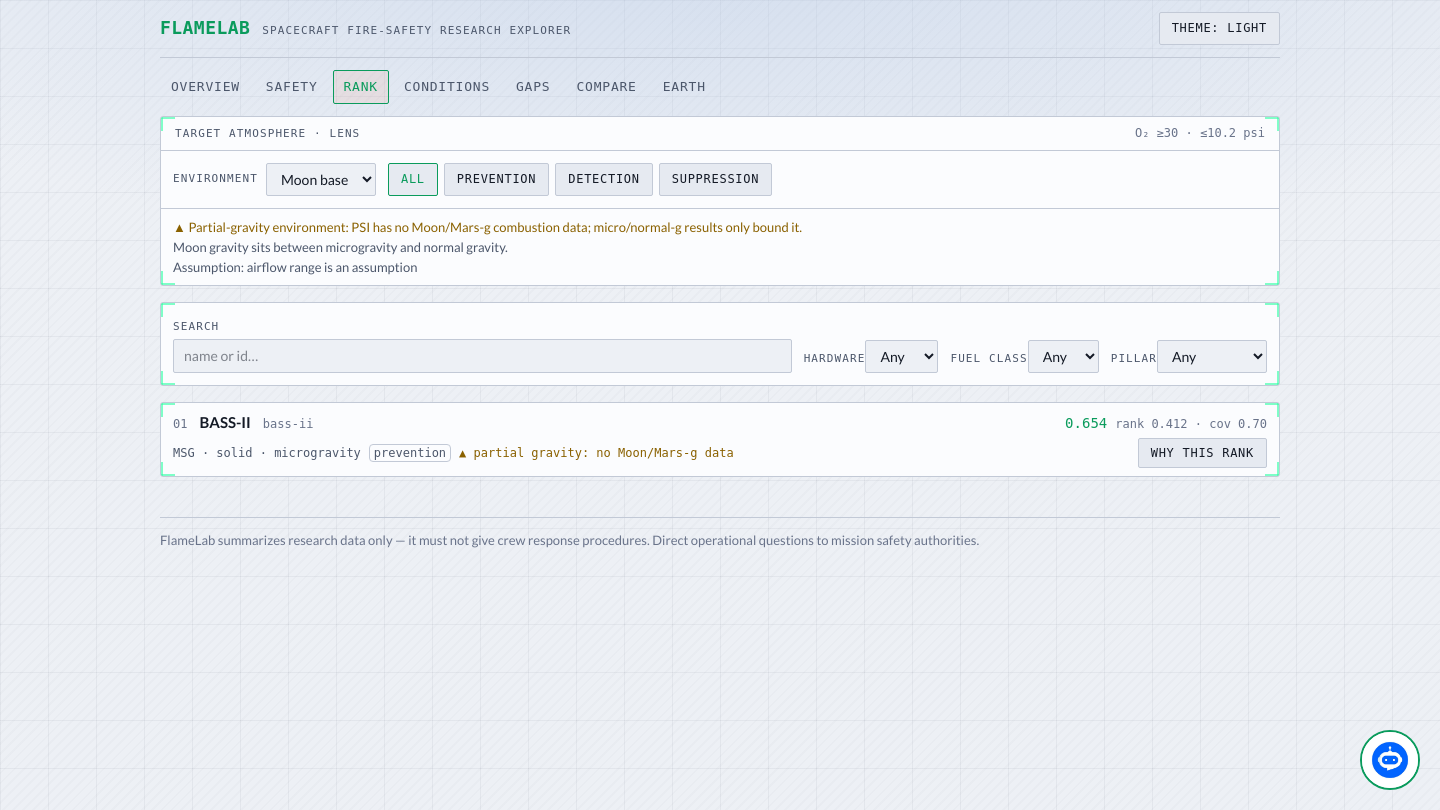
Test: app smoke: every route renders against the API contract › rank: list with expandable breakdown
The width and height of the screenshot is (1440, 810).
Expected: the link "BASS-II" is shown, [200, 411, 251, 434]
Step 1. Click the button "Why this rank" → (1202, 454), box [1138, 438, 1267, 468]
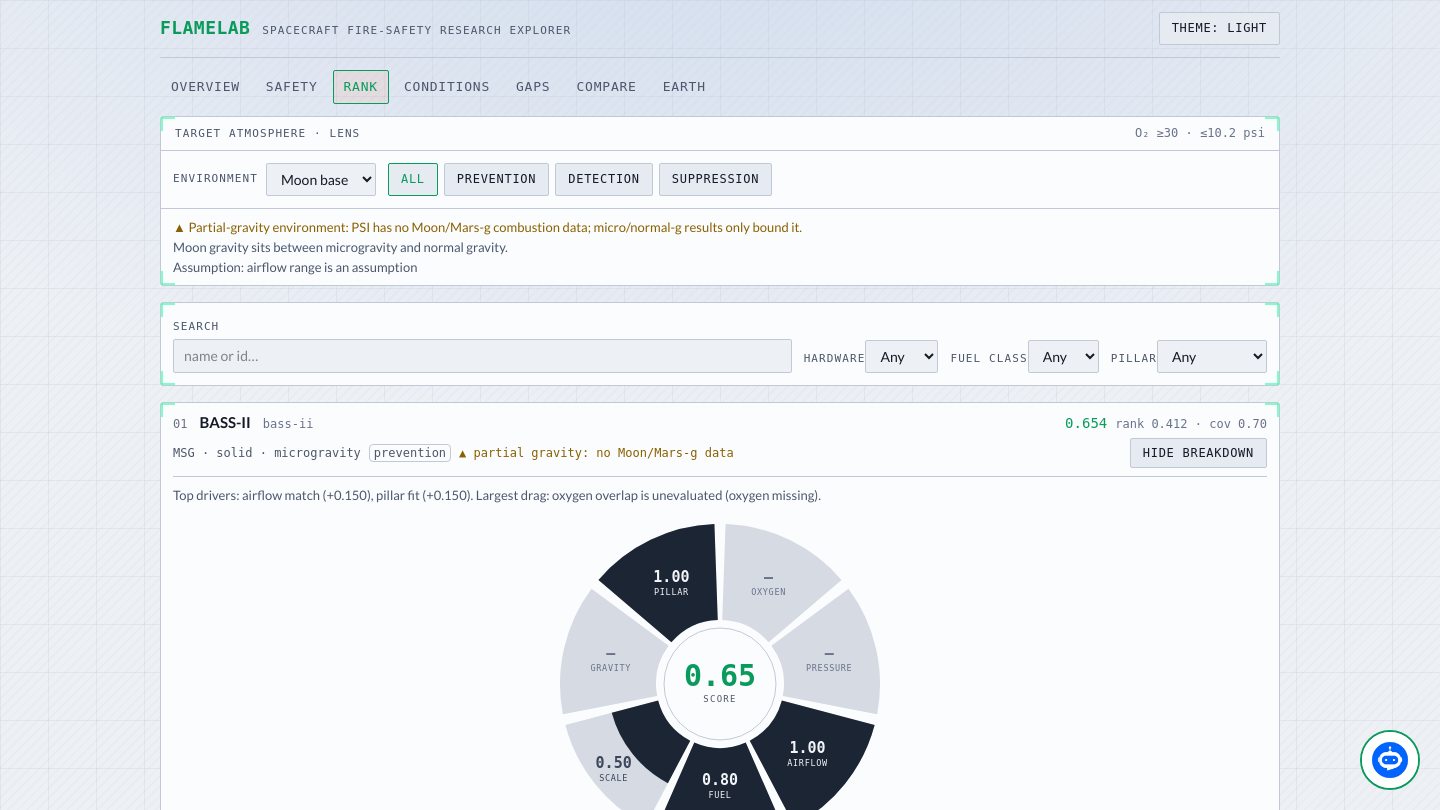
Expected: the text "Top drivers" is shown, [173, 488, 240, 504]
